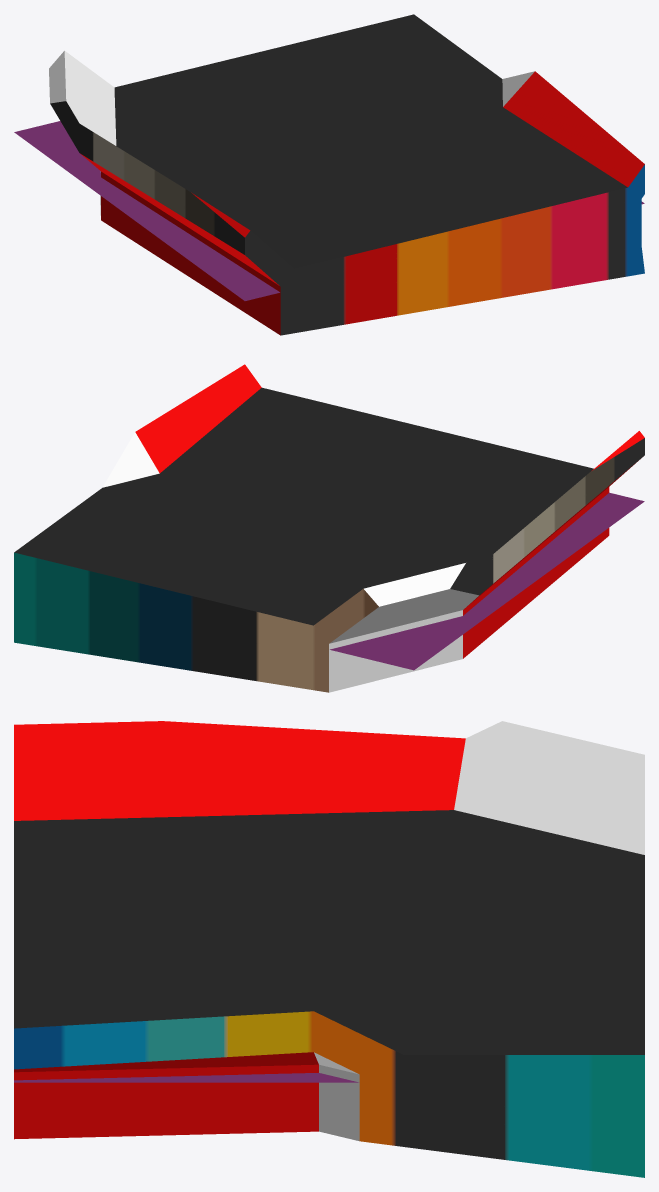
File: tile_1_0_4.gltf
The picture shows the model from 3 angles, top to bottom: view 1: azimuth 30°, elevation 25°; view 2: azimuth 150°, elevation 25°; view 3: azimuth 270°, elevation 25°; orthographic projection. The views are drawn at different scales.
Parts seen in each view (by area): view 1: track.016, Plane; view 2: track.016, Plane; view 3: track.016, Plane.
Boxes of the visible parts, bbox=[...] form: track.016: bbox=[49, 14, 644, 335]; Plane: bbox=[14, 121, 644, 300]; track.016: bbox=[14, 364, 644, 692]; Plane: bbox=[330, 492, 644, 670]; track.016: bbox=[14, 721, 644, 1177]; Plane: bbox=[14, 1073, 358, 1082].
Size of the model in its own units: 8 by 2.66 by 8.
Materials: 1 (1 with a texture image).
